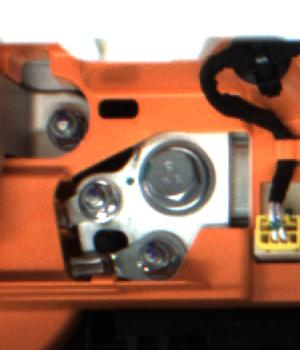nut_b: (136, 142, 217, 215)
screw_s: (38, 108, 95, 158), (128, 234, 178, 280), (74, 179, 117, 219)
